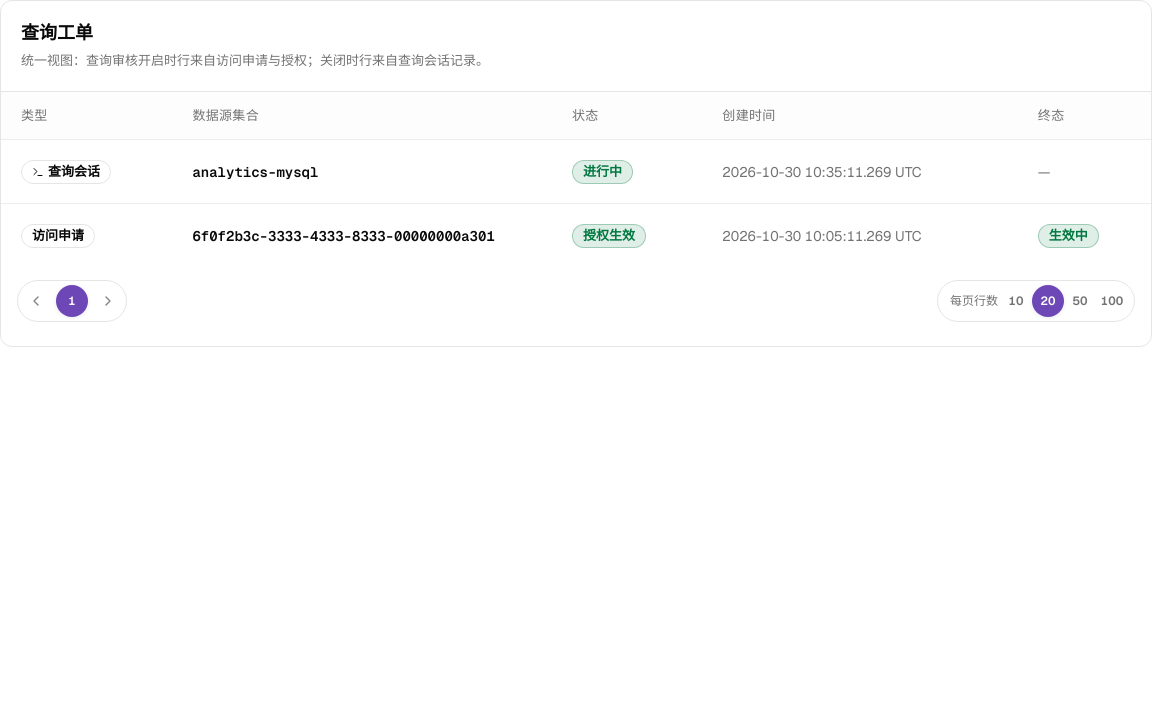
Test: query orders tab › shows the seeded request/grant/session rows with the revocation reason detail
Expected: the table with test id "orders-query-table" is shown, [1, 92, 1151, 268]
Step 1. Click the row with test id "orders-query-row-" → (576, 172), box [1, 140, 1151, 204]
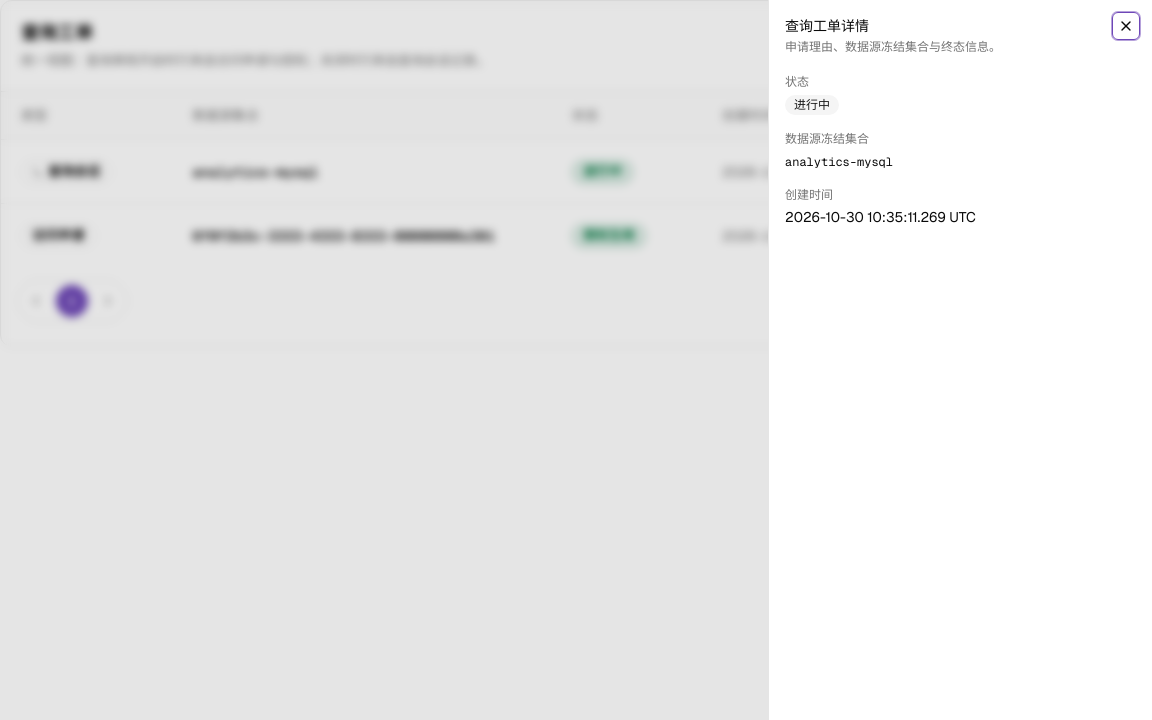
Expected: the dialog with test id "orders-query-detail" is shown, [768, 0, 1151, 719]
Expected: the dialog with test id "orders-query-detail" shows "数据源冻结集合", [785, 130, 869, 146]
